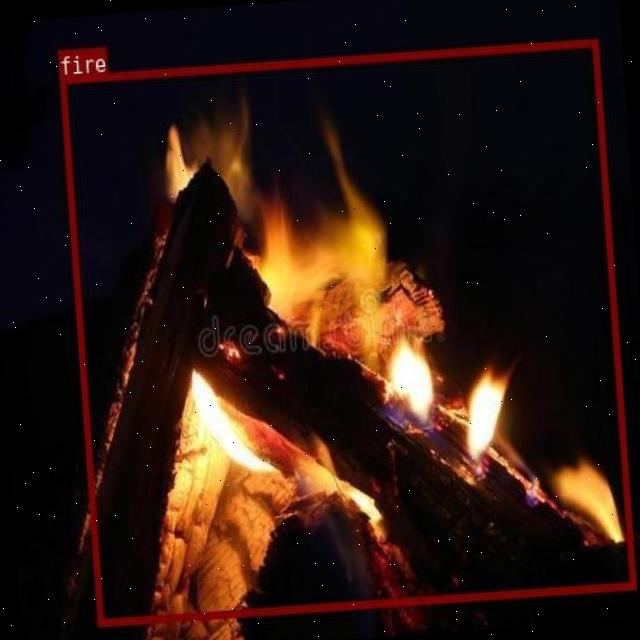fire: (59, 37, 634, 624)
